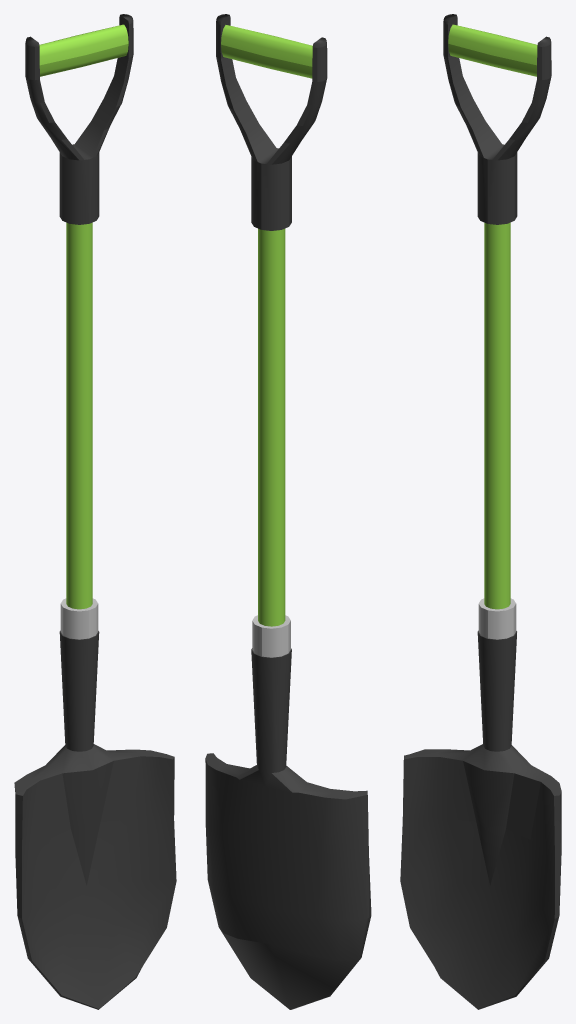
File: shovel.fbx
The picture shows the model from 3 angles, left to right: view 1: azimuth 30°, elevation 25°; view 2: azimuth 150°, elevation 25°; view 3: azimuth 330°, elevation 25°; orthographic projection. The views are drawn at different scales.
Visible parts, largest first — view 1: Besi; view 2: Besi; view 3: Besi.
Boxes of the visible parts, x1,y1,x2,y2 form: Besi: (14,14,176,1009); Besi: (205,14,371,1009); Besi: (400,14,561,1009).
Bounding box in the file's own units: 189 × 1105 × 61.85.
